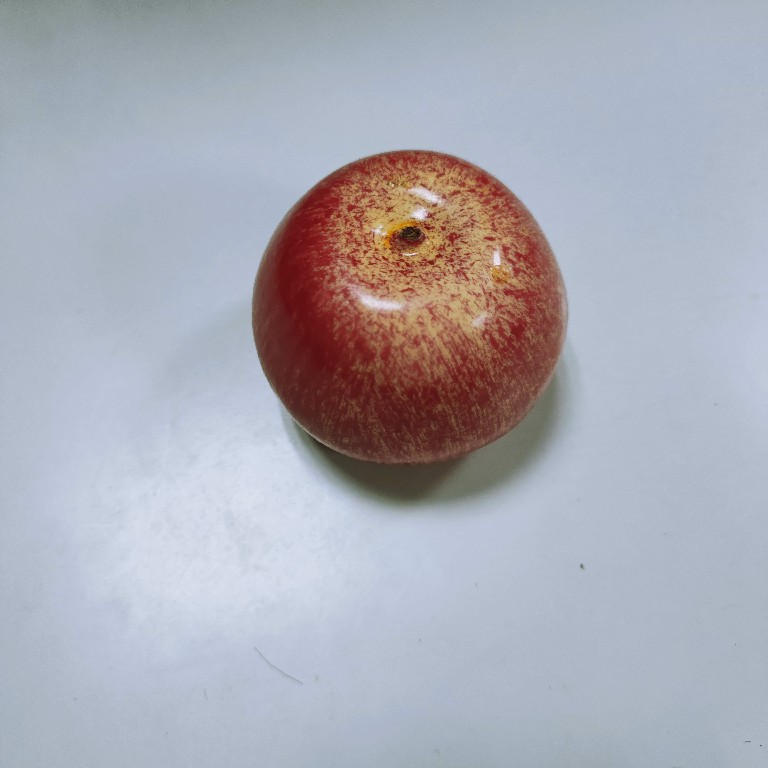fruit_apple: (246, 144, 576, 478)
